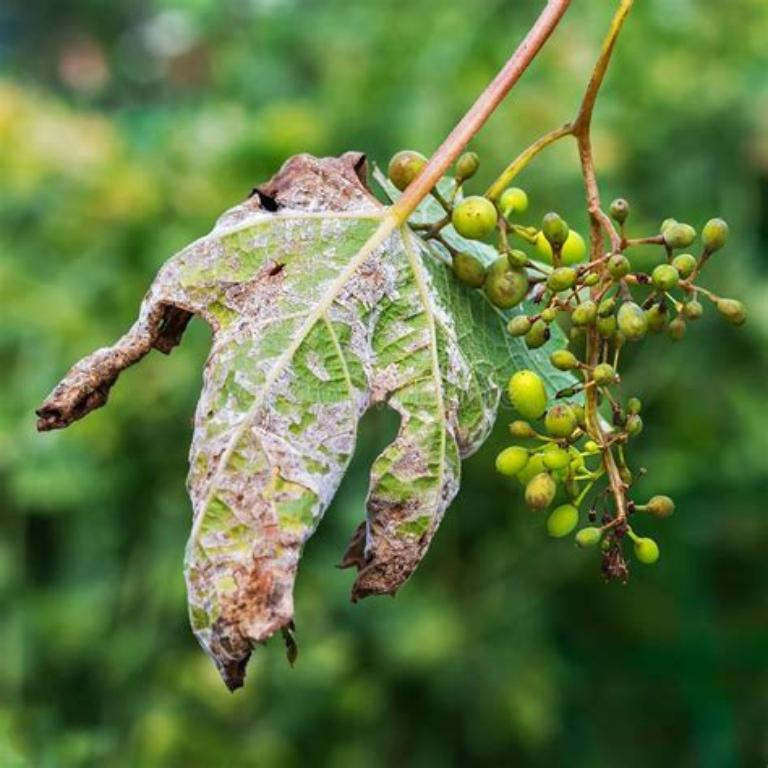blight: (208, 526, 302, 698), (353, 464, 424, 620)
